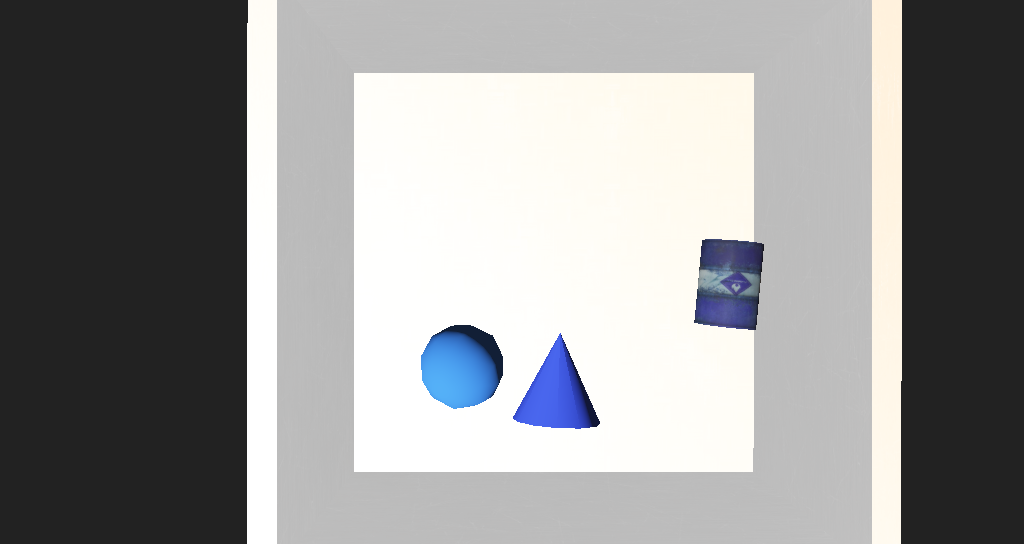cone: (610, 251, 670, 303)
cylinder: (468, 296, 556, 353)
sphere: (408, 298, 468, 341)
